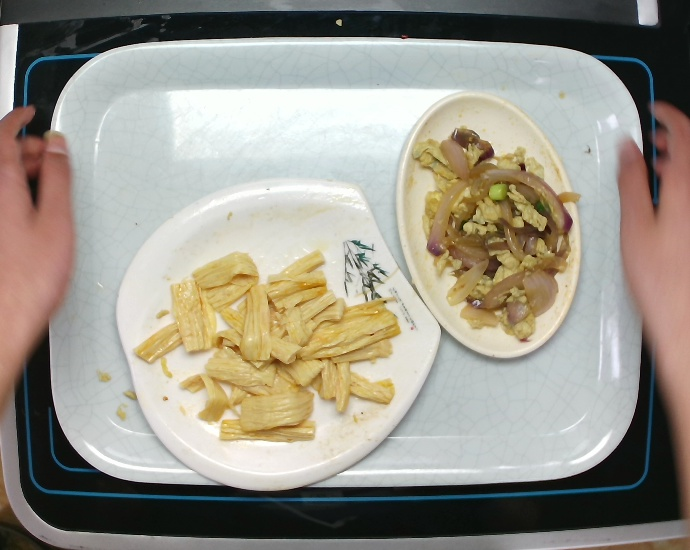JYsf-Mian_Pan: (110, 172, 454, 497)
JYsf-Tuo_Yuan_Wan: (391, 87, 599, 367)
